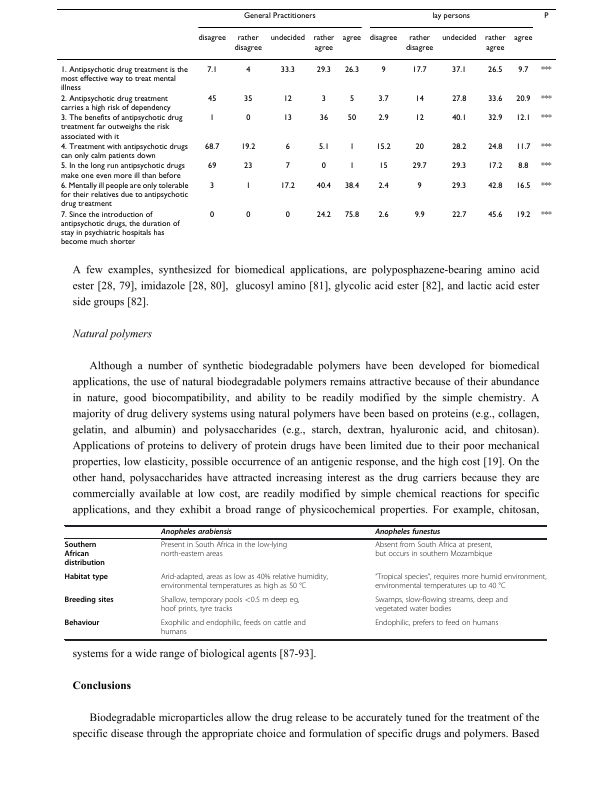borderless: (55, 7, 557, 255), (63, 524, 546, 639)
cell: (59, 210, 180, 247), (59, 181, 189, 209), (59, 65, 188, 93), (59, 113, 183, 142), (374, 573, 547, 592), (160, 573, 329, 592), (160, 619, 307, 638), (160, 596, 300, 615), (374, 596, 509, 615), (59, 161, 185, 181), (59, 142, 188, 161), (160, 541, 288, 560), (374, 541, 493, 560), (59, 94, 171, 113), (374, 619, 499, 629), (63, 541, 106, 569), (242, 11, 316, 21), (160, 528, 233, 537), (374, 528, 441, 537), (404, 34, 434, 53), (233, 34, 262, 53), (63, 596, 115, 606), (63, 573, 109, 583), (312, 34, 335, 53), (483, 34, 506, 53), (431, 11, 470, 21), (63, 619, 100, 629), (269, 34, 305, 43), (441, 34, 477, 43), (368, 34, 398, 43), (197, 34, 226, 43), (341, 34, 362, 43), (513, 34, 533, 43), (343, 181, 360, 191), (343, 210, 360, 220), (279, 65, 295, 75), (315, 65, 331, 75), (343, 65, 359, 75), (411, 65, 427, 75), (451, 65, 467, 75), (487, 65, 503, 75), (451, 94, 467, 104), (487, 94, 503, 104), (515, 94, 531, 104), (451, 113, 467, 123), (487, 113, 503, 123), (515, 113, 531, 123), (204, 142, 220, 152), (240, 142, 256, 152), (375, 142, 391, 152), (451, 142, 467, 152), (487, 142, 503, 152), (515, 142, 531, 152), (411, 161, 427, 171), (451, 161, 467, 171), (487, 161, 503, 171), (279, 181, 295, 191), (315, 181, 331, 191), (451, 181, 467, 191), (487, 181, 503, 191), (515, 181, 531, 191), (315, 210, 331, 220), (451, 210, 467, 220), (487, 210, 503, 220), (515, 210, 531, 220), (206, 65, 218, 75), (517, 65, 529, 75), (540, 65, 552, 75), (377, 94, 389, 104), (540, 94, 552, 104), (377, 113, 389, 123), (540, 113, 552, 123), (317, 142, 329, 152), (540, 142, 552, 152), (517, 161, 529, 171), (540, 161, 552, 171), (377, 181, 389, 191), (540, 181, 552, 191), (377, 210, 389, 220), (413, 210, 425, 220), (540, 210, 552, 220), (318, 113, 329, 123), (346, 113, 357, 123), (207, 94, 217, 104), (243, 94, 253, 104), (282, 94, 292, 104), (414, 94, 424, 104), (282, 113, 292, 123), (414, 113, 424, 123), (414, 142, 424, 152), (207, 161, 217, 171), (243, 161, 253, 171), (378, 161, 388, 171), (348, 94, 355, 104), (348, 142, 355, 152), (348, 161, 355, 171), (543, 11, 549, 21), (245, 65, 251, 75), (380, 65, 386, 75), (320, 94, 326, 104), (209, 113, 215, 123), (245, 113, 251, 123), (284, 142, 290, 152), (284, 161, 290, 171), (320, 161, 326, 171), (209, 181, 215, 191), (245, 181, 251, 191), (416, 181, 422, 191), (209, 210, 215, 220), (245, 210, 251, 220), (284, 210, 290, 220)
